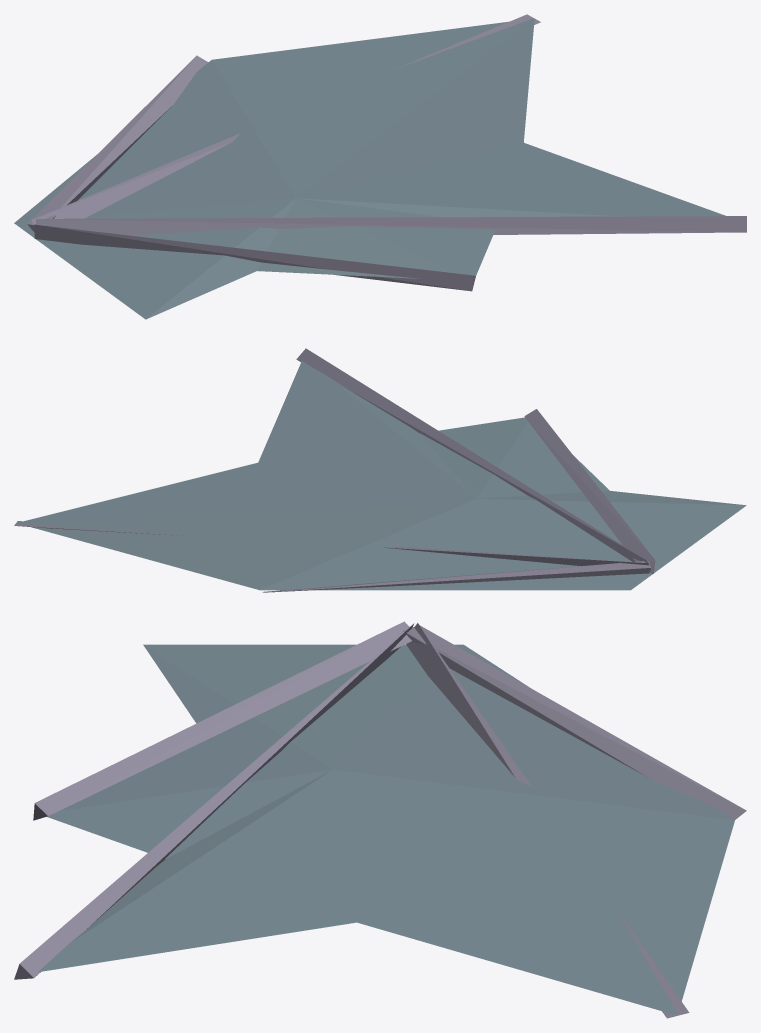
File: wing_r_lod2.glb
3 views of the same model, one above another, from view 1: azimuth 30°, elevation 25°; view 2: azimuth 150°, elevation 25°; view 3: azimuth 270°, elevation 25° (orthographic). The views are drawn at different scales.
Parts seen in each view (by area): view 1: devil_wing_r_LOD2; view 2: devil_wing_r_LOD2; view 3: devil_wing_r_LOD2.
Boxes of the visible parts, left/top/right/bottom form: devil_wing_r_LOD2: left=14, top=14, right=746, bottom=319; devil_wing_r_LOD2: left=14, top=348, right=746, bottom=592; devil_wing_r_LOD2: left=14, top=621, right=746, bottom=1018.
Bounding box in the file's own units: 6.48 × 0.2794 × 5.49.
